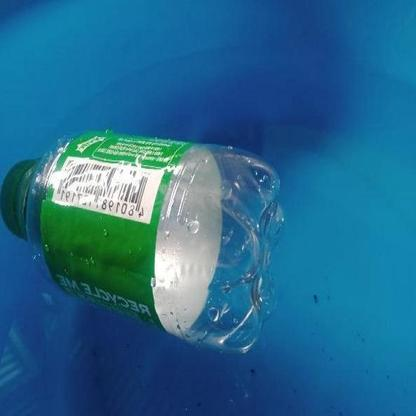plastic bottle: (2, 130, 286, 352)
